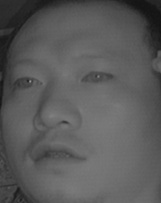eye: (11, 70, 44, 94), (80, 65, 112, 87)
mouth: (23, 135, 90, 173)
